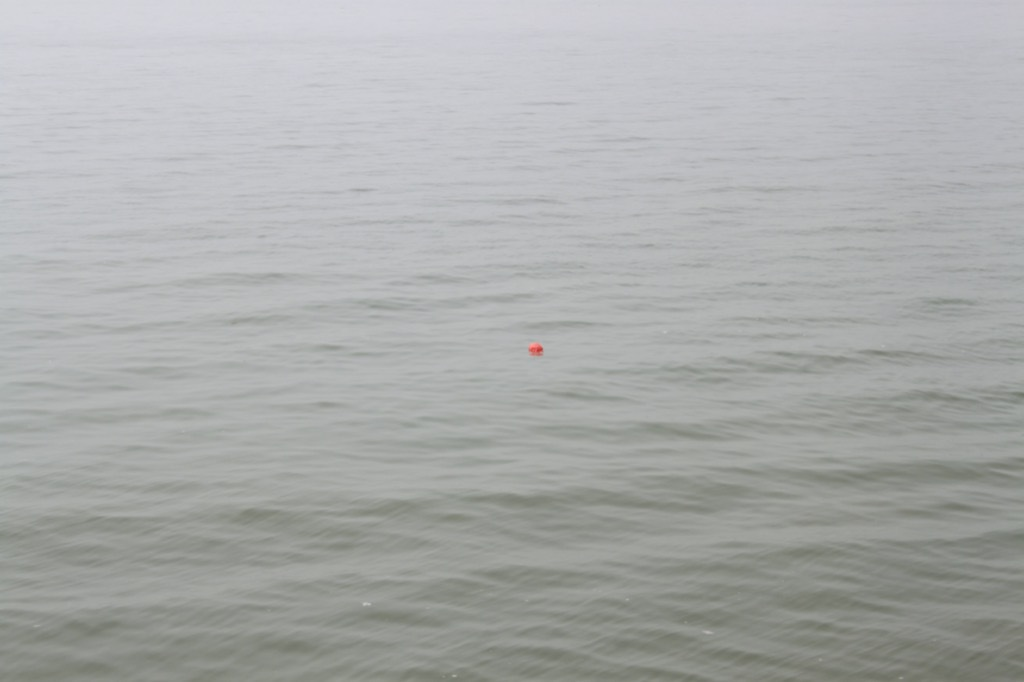plastic: (511, 334, 559, 365)
